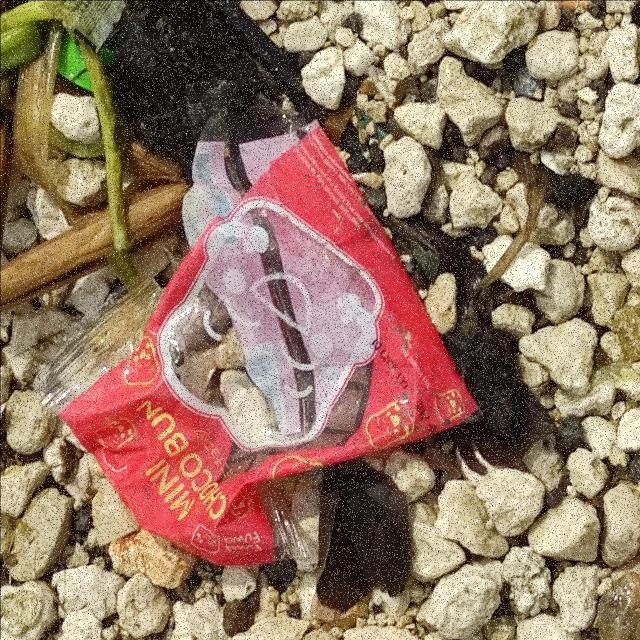plastic_waste: (33, 110, 483, 567)
